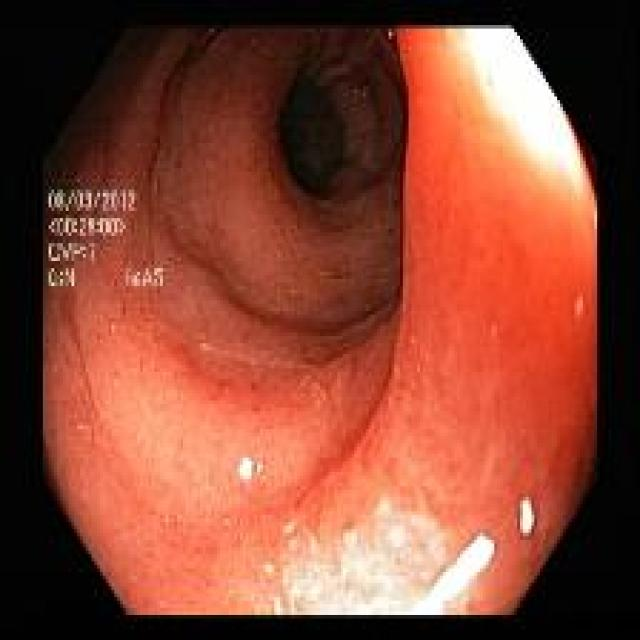ulcerative-colitis: (45, 30, 595, 613)
